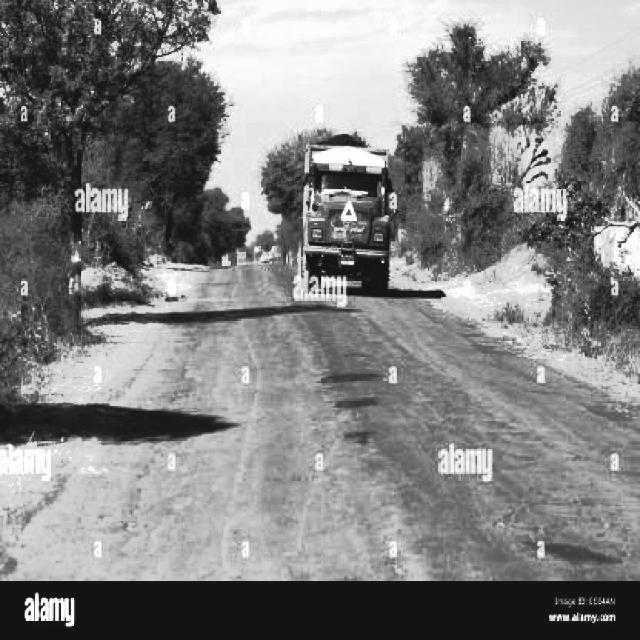HCV: (305, 129, 407, 291)
